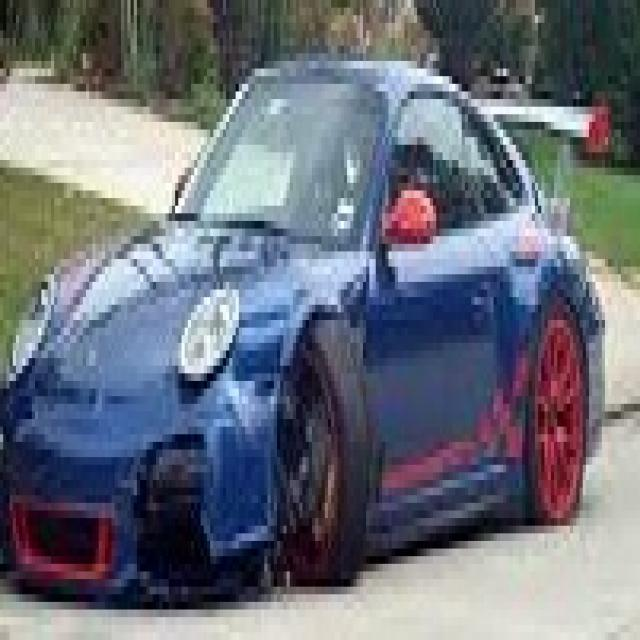severe: (134, 288, 372, 614)
